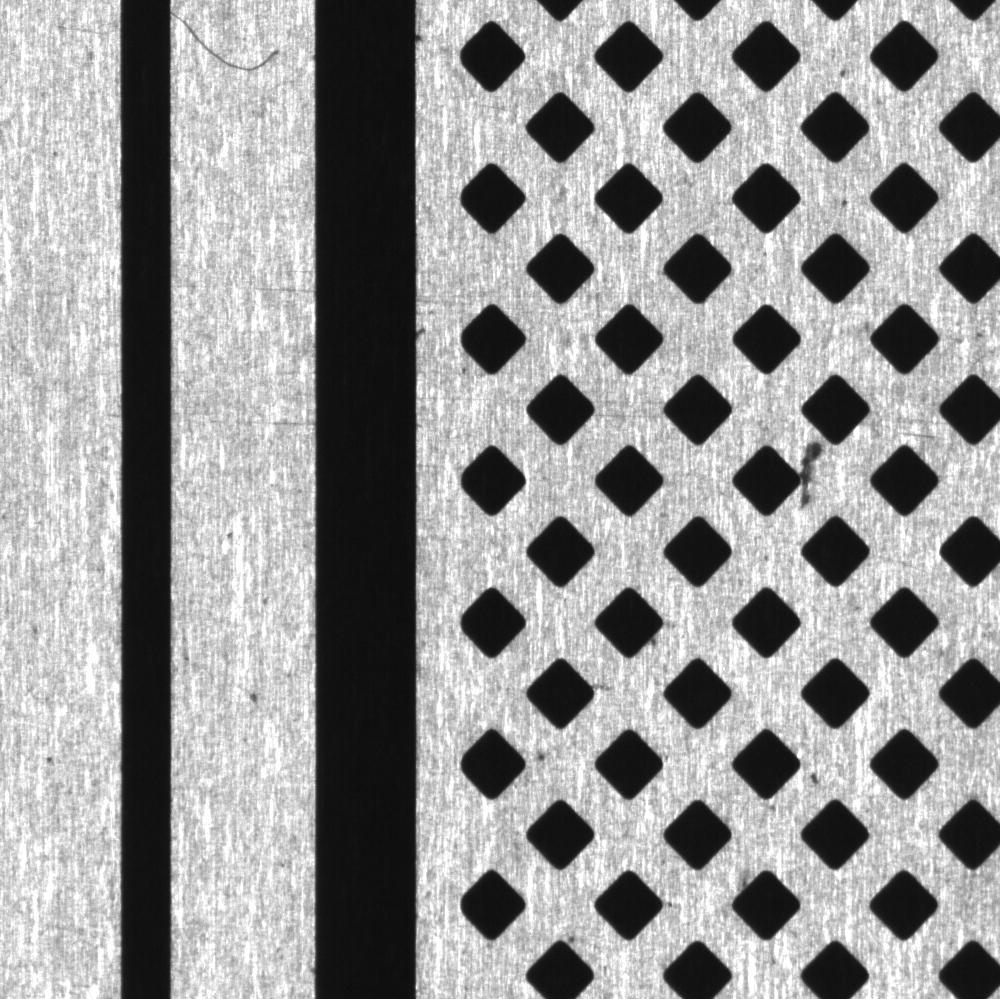Etching: (795, 435, 823, 518), (231, 673, 282, 717), (804, 756, 829, 794), (19, 613, 47, 646), (254, 591, 280, 620), (219, 519, 237, 546)
Pinhole: (32, 743, 65, 778), (528, 741, 559, 770)
Scar: (170, 2, 292, 89), (171, 268, 314, 299), (202, 403, 316, 436), (419, 284, 525, 307), (417, 388, 521, 410), (598, 402, 670, 428)
